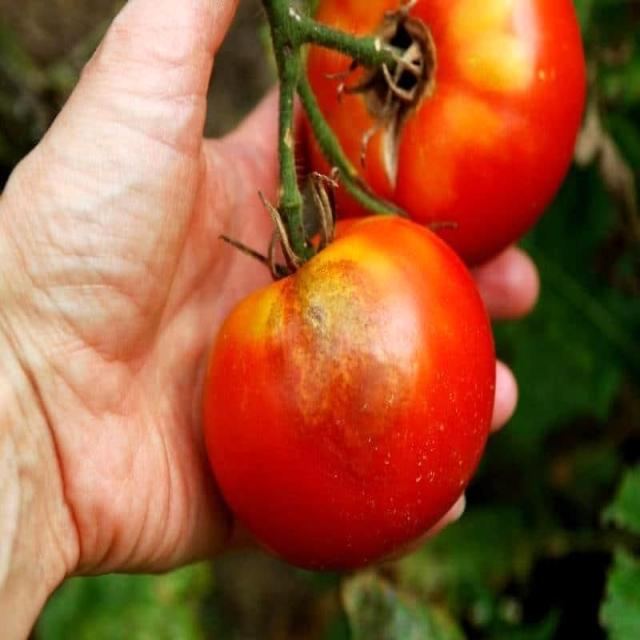Rotten_Tomato: (205, 216, 489, 568), (302, 0, 598, 270)
